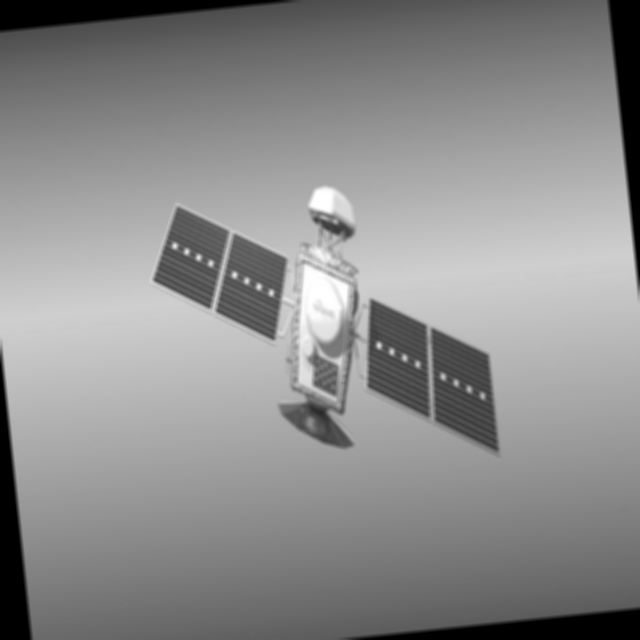medium_debris: (137, 158, 512, 503)
